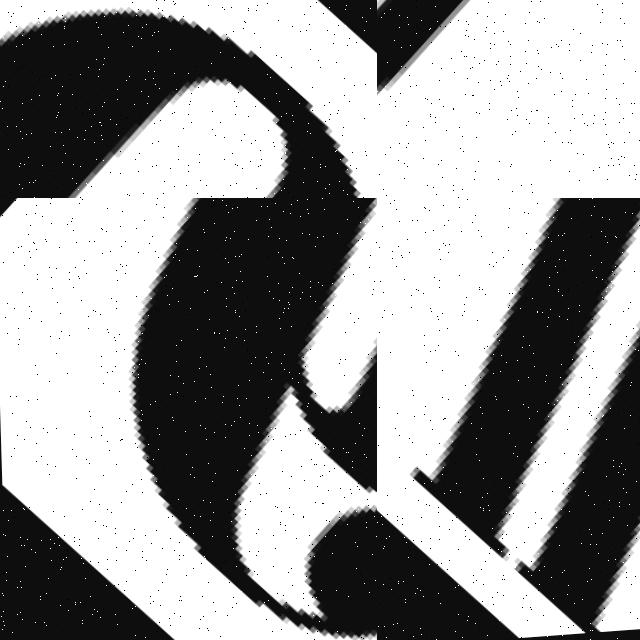G: (0, 198, 377, 640)
L: (377, 0, 640, 198)
N: (377, 198, 640, 640)
O: (0, 13, 352, 198)
